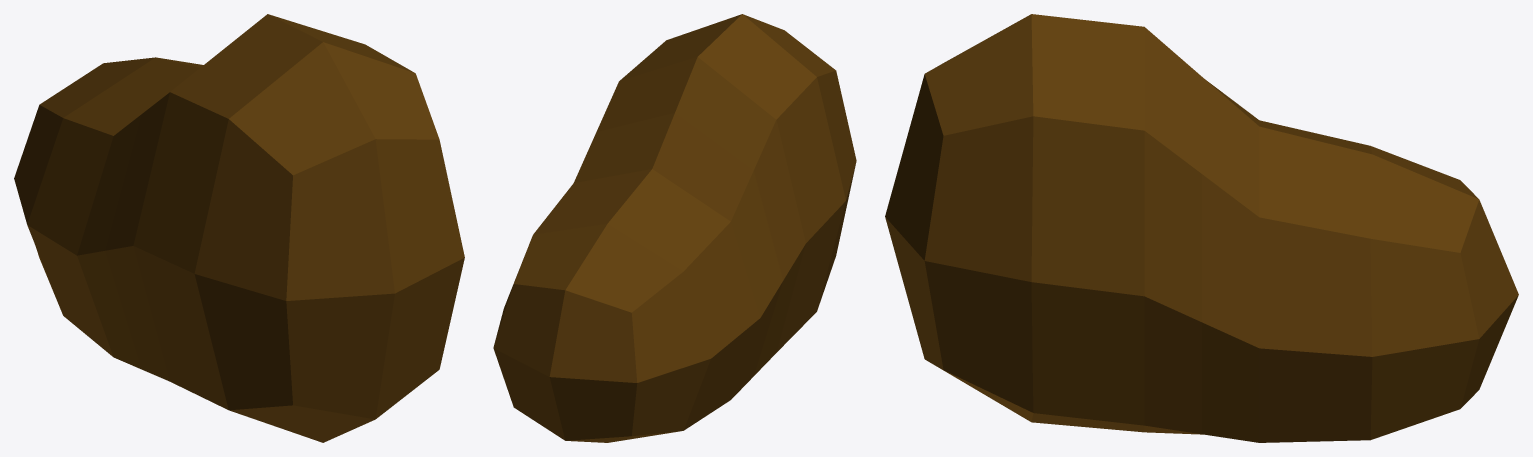
Rendered from Rock1.fbx.
3 views of the same model, side by side, from view 1: azimuth 30°, elevation 25°; view 2: azimuth 150°, elevation 25°; view 3: azimuth 270°, elevation 25° (orthographic). The views are drawn at different scales.
Parts seen in each view (by area): view 1: Rock1; view 2: Rock1; view 3: Rock1.
Part boxes in pixels (x1,y1,x2,y2): Rock1: (14, 14, 464, 442); Rock1: (493, 14, 856, 442); Rock1: (885, 14, 1518, 442).
Bounding box in the file's own units: 368 × 183 × 271.
